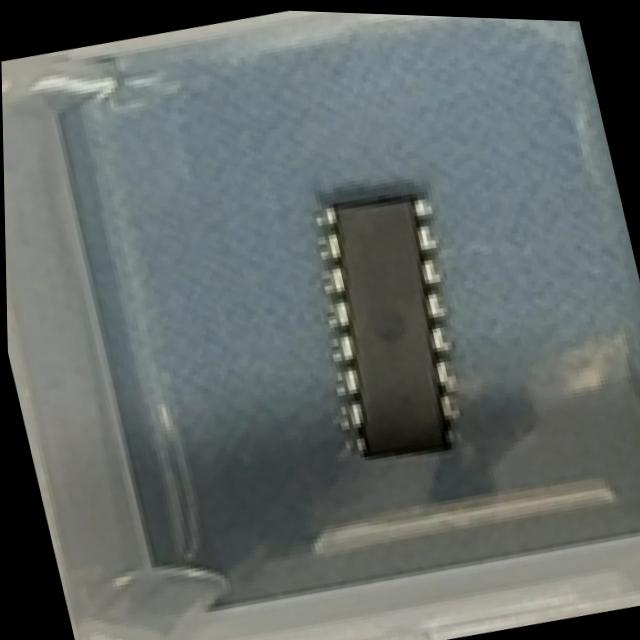IC: (286, 176, 496, 474)
